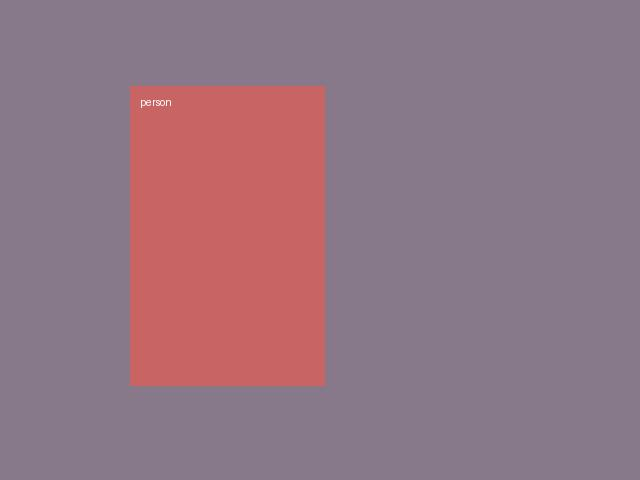person: (130, 86, 324, 385)
